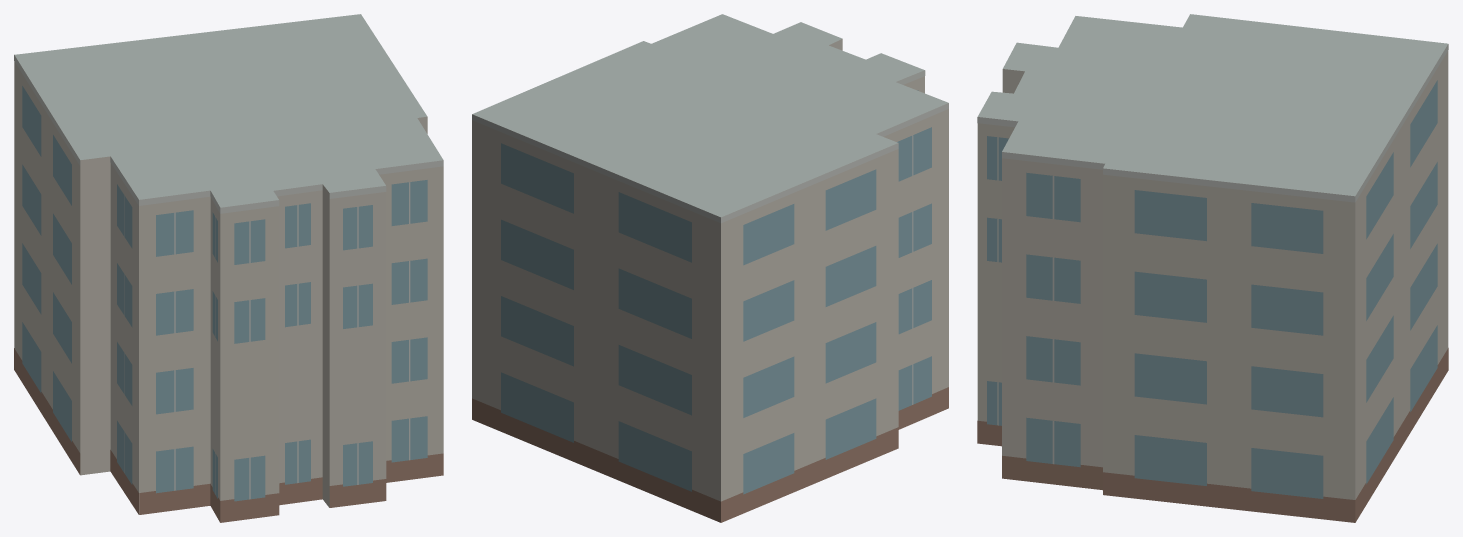
Rendered from survey-upis-32786813.glb.
3 views of the same model, side by side, from view 1: azimuth 30°, elevation 25°; view 2: azimuth 150°, elevation 25°; view 3: azimuth 270°, elevation 25° (orthographic). The views are drawn at different scales.
Visible parts, largest first — view 1: survey-upis-32786813.tmp; view 2: survey-upis-32786813.tmp; view 3: survey-upis-32786813.tmp.
Part boxes in pixels (bbox=[...]): survey-upis-32786813.tmp: bbox=[14, 14, 443, 522]; survey-upis-32786813.tmp: bbox=[472, 14, 948, 522]; survey-upis-32786813.tmp: bbox=[977, 14, 1448, 522].
Bounding box in the file's own units: 15.09 × 12.6 × 16.48.
